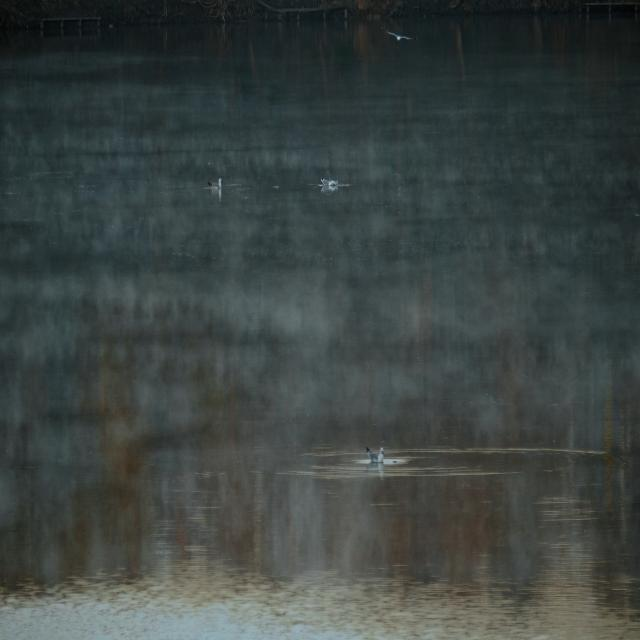bird: (361, 440, 393, 470), (386, 24, 414, 55), (317, 165, 343, 194), (203, 173, 230, 200)
